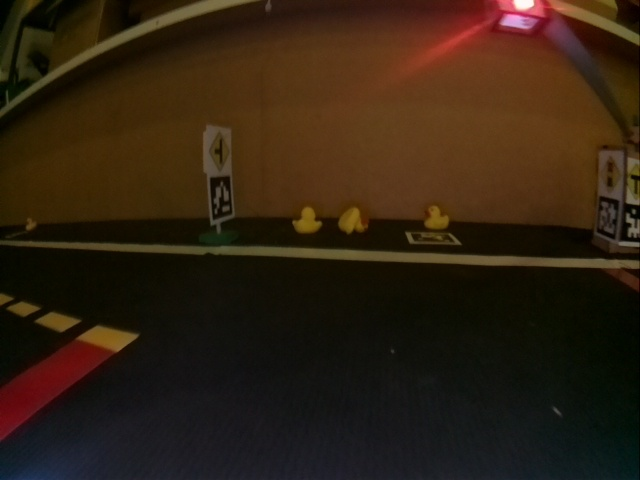Duckie: (292, 207, 321, 234), (338, 208, 369, 233), (425, 206, 447, 229), (25, 218, 35, 230)
Intersection sign: (207, 126, 232, 169), (628, 162, 639, 200)
QR code: (208, 176, 233, 221), (596, 196, 617, 239), (406, 233, 459, 244), (622, 204, 637, 242)
Signal sign: (600, 156, 622, 195)
